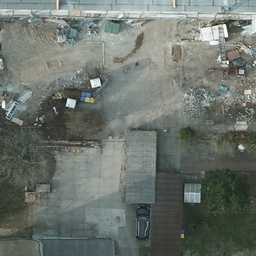car: (133, 205, 149, 241)
